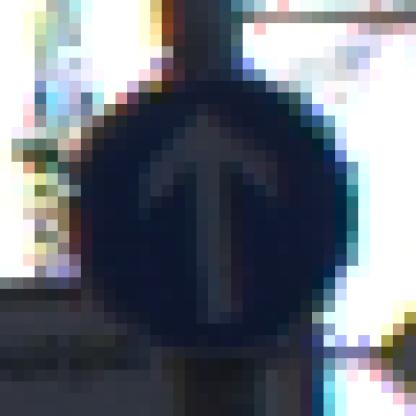AheadOnly: (59, 59, 359, 359)
